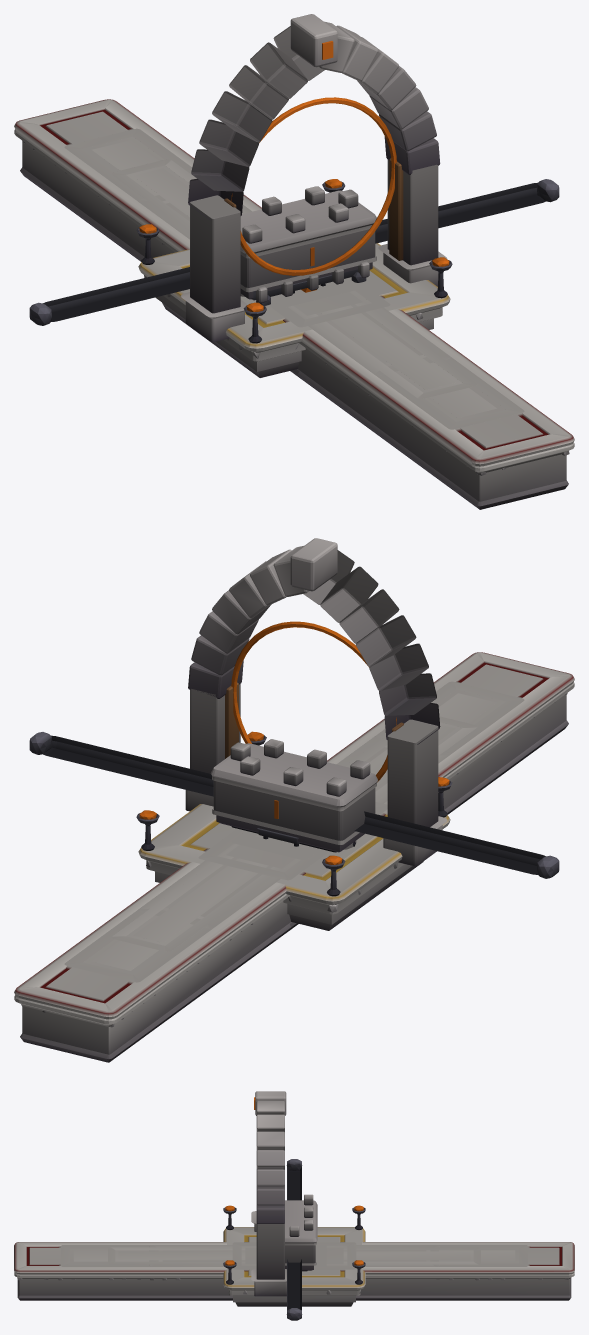
Rendered from fortress-5-CaxMX8Fh.glb.
3 renders of one model, top to bottom at view 1: azimuth 30°, elevation 25°; view 2: azimuth 150°, elevation 25°; view 3: azimuth 270°, elevation 25°, orthographic. The views are drawn at different scales.
Parts seen in each view (by area): view 1: portal_#0, block_6x2x47.400000000000006#0, spout_6x2#0, pad_12x2x12#1, block_4x2x32_grate#0, block_5x2x40#0, mount_14.9#0, block_5x2x25#1, block_6x2x11#1, block_5x2x6#1; view 2: block_6x2x47.400000000000006#0, portal_#0, spout_6x2#0, pad_12x2x12#1, mount_14.9#0, block_4x2x32_grate#0, block_5x2x40#0, block_5x2x25#1, block_6x2x11#1, block_5x2x6#1; view 3: block_6x2x47.400000000000006#0, portal_#0, pad_12x2x12#1, block_4x2x32_grate#0, block_5x2x40#0, spout_6x2#0, block_5x2x25#1, mount_14.9#0, block_6x2x11#1.
Boxes of the visible parts, left/top/right/bottom form: portal_#0: left=181, top=14, right=447, bottom=341; block_6x2x47.400000000000006#0: left=14, top=99, right=574, bottom=509; spout_6x2#0: left=240, top=186, right=376, bottom=303; pad_12x2x12#1: left=136, top=179, right=452, bottom=377; block_4x2x32_grate#0: left=112, top=159, right=477, bottom=398; block_5x2x40#0: left=64, top=128, right=524, bottom=431; mount_14.9#0: left=29, top=179, right=559, bottom=325; block_5x2x25#1: left=138, top=195, right=450, bottom=375; block_6x2x11#1: left=268, top=277, right=390, bottom=378; block_5x2x6#1: left=271, top=279, right=357, bottom=307; block_6x2x47.400000000000006#0: left=14, top=652, right=574, bottom=1062; portal_#0: left=185, top=538, right=447, bottom=866; spout_6x2#0: left=210, top=739, right=378, bottom=852; pad_12x2x12#1: left=136, top=731, right=452, bottom=930; mount_14.9#0: left=29, top=732, right=559, bottom=878; block_4x2x32_grate#0: left=111, top=716, right=477, bottom=951; block_5x2x40#0: left=64, top=681, right=524, bottom=984; block_5x2x25#1: left=138, top=735, right=450, bottom=928; block_6x2x11#1: left=198, top=802, right=387, bottom=931; block_5x2x6#1: left=231, top=831, right=320, bottom=860; block_6x2x47.400000000000006#0: left=14, top=1242, right=574, bottom=1300; portal_#0: left=251, top=1091, right=286, bottom=1296; pad_12x2x12#1: left=223, top=1205, right=365, bottom=1306; block_4x2x32_grate#0: left=108, top=1247, right=480, bottom=1264; block_5x2x40#0: left=58, top=1245, right=530, bottom=1266; spout_6x2#0: left=285, top=1194, right=317, bottom=1271; block_5x2x25#1: left=149, top=1245, right=439, bottom=1266; mount_14.9#0: left=286, top=1159, right=302, bottom=1320; block_6x2x11#1: left=232, top=1242, right=356, bottom=1271.
Size of the model in its own units: 30.7 by 18.29 by 47.4.
